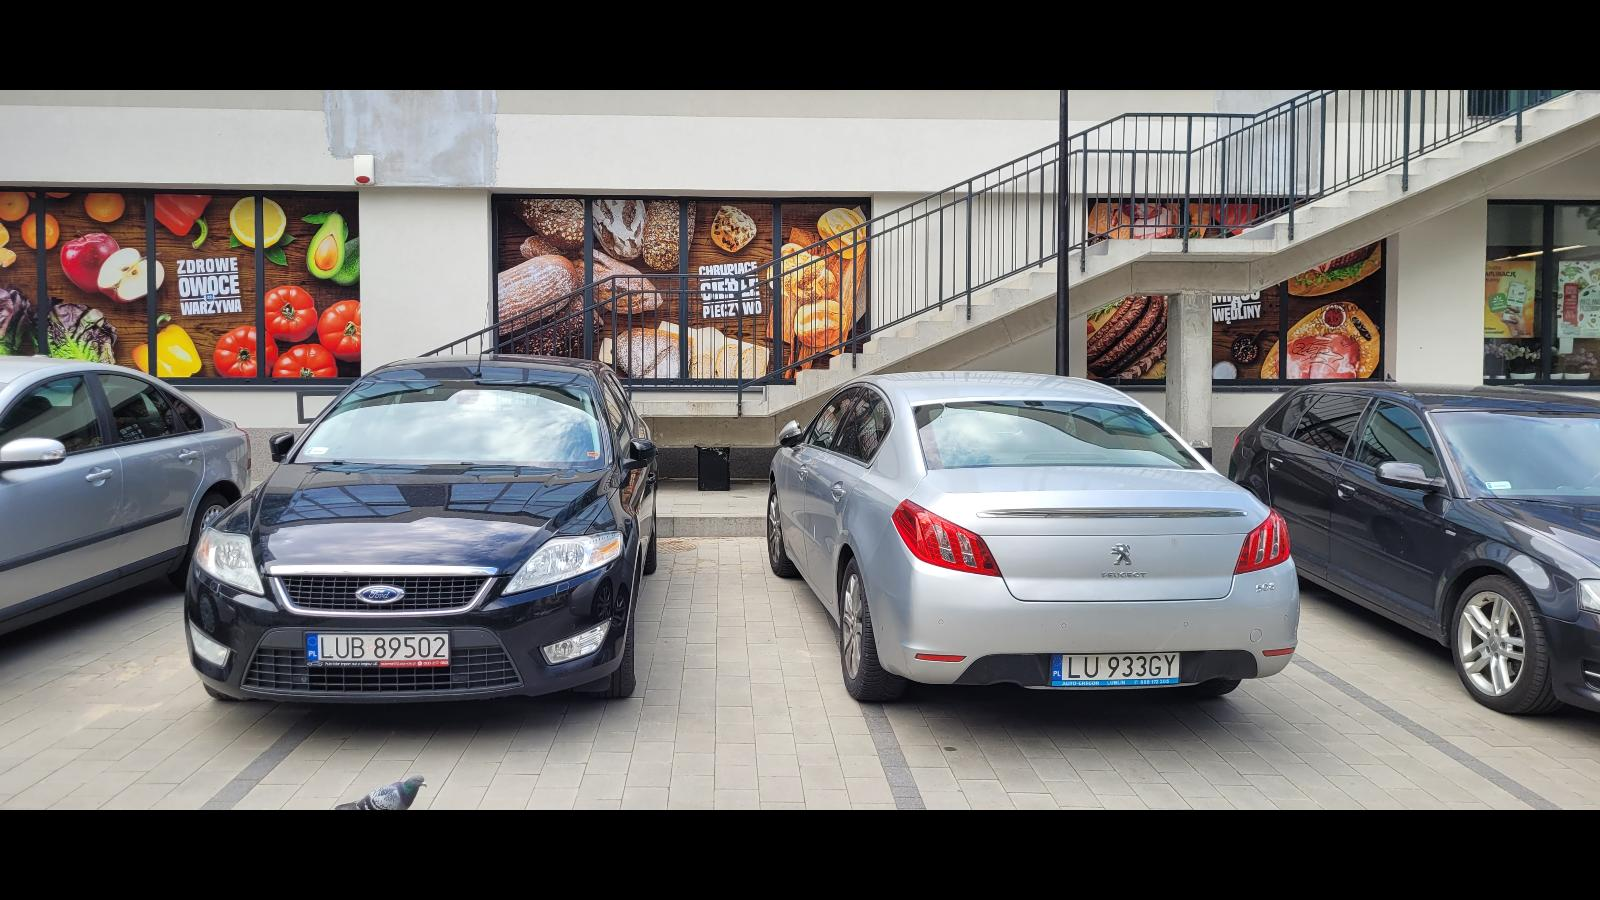plates: (305, 631, 451, 667), (1050, 651, 1182, 686)
